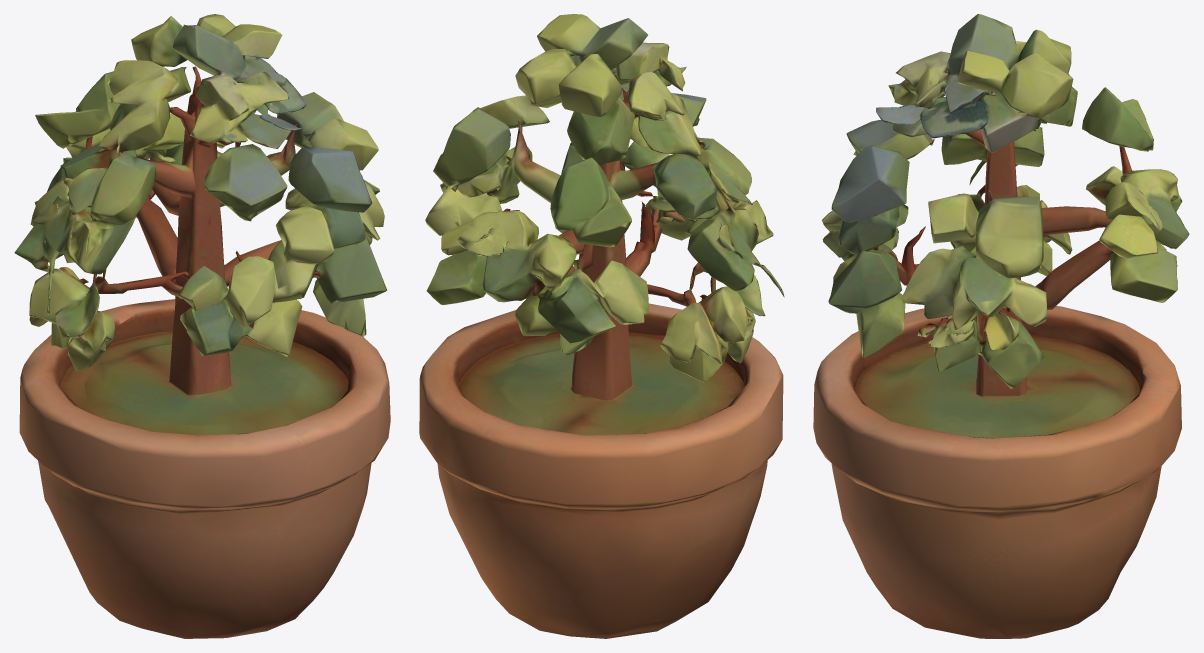
The model's file is planterRound.glb.
The picture shows the model from 3 angles, left to right: view 1: azimuth 30°, elevation 25°; view 2: azimuth 150°, elevation 25°; view 3: azimuth 270°, elevation 25°; orthographic projection.
Visible parts, largest first — view 1: tripo_node_ef4a71a1-3b80-44f1-9c4c-c0a2eddbb36e; view 2: tripo_node_ef4a71a1-3b80-44f1-9c4c-c0a2eddbb36e; view 3: tripo_node_ef4a71a1-3b80-44f1-9c4c-c0a2eddbb36e.
Boxes of the visible parts, x1,y1,x2,y2 form: tripo_node_ef4a71a1-3b80-44f1-9c4c-c0a2eddbb36e: [14, 14, 390, 638]; tripo_node_ef4a71a1-3b80-44f1-9c4c-c0a2eddbb36e: [419, 14, 784, 638]; tripo_node_ef4a71a1-3b80-44f1-9c4c-c0a2eddbb36e: [813, 14, 1189, 638].
Bounding box in the file's own units: 0.6025 × 1 × 0.5827.
Materials: 1 (1 with a texture image).
